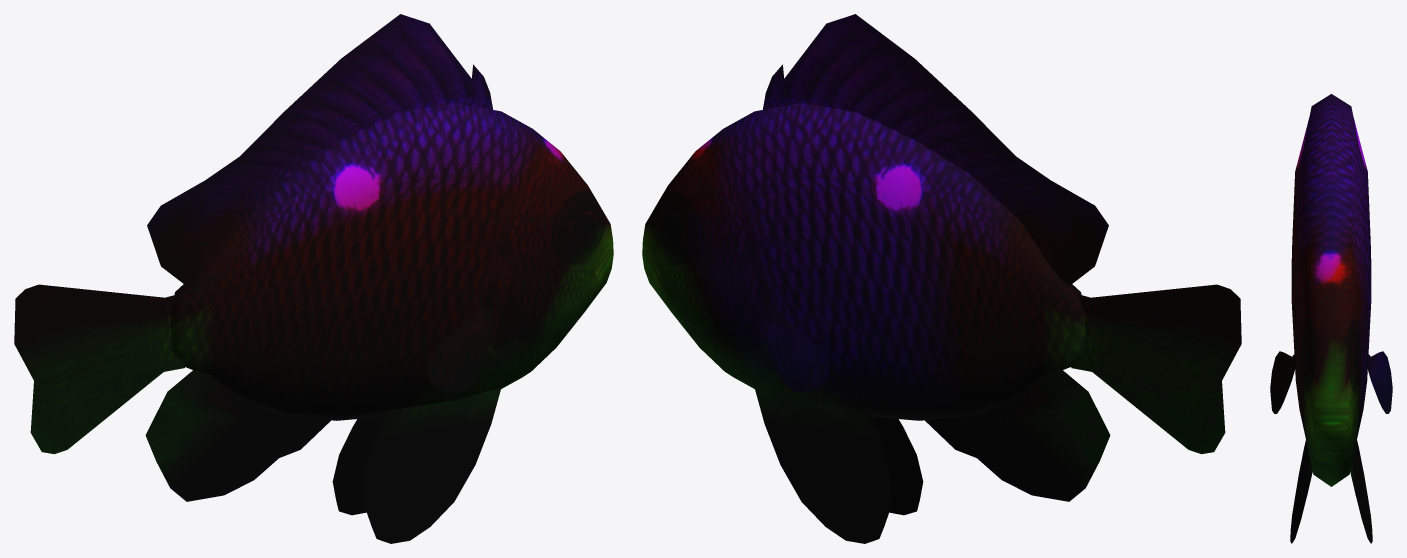
The model's file is domino_damselfish.glb.
The picture shows the model from 3 angles, left to right: view 1: azimuth 30°, elevation 25°; view 2: azimuth 150°, elevation 25°; view 3: azimuth 270°, elevation 25°; orthographic projection. The views are drawn at different scales.
Visible parts, largest first — view 1: DominoDamselfish; view 2: DominoDamselfish; view 3: DominoDamselfish.
Part boxes in pixels (<box>): DominoDamselfish: <box>14,14,613,543</box>; DominoDamselfish: <box>642,14,1241,543</box>; DominoDamselfish: <box>1270,94,1392,543</box>.
Bounding box in the file's own units: 1 × 0.8163 × 0.1704.
1 material, 1 textured.
